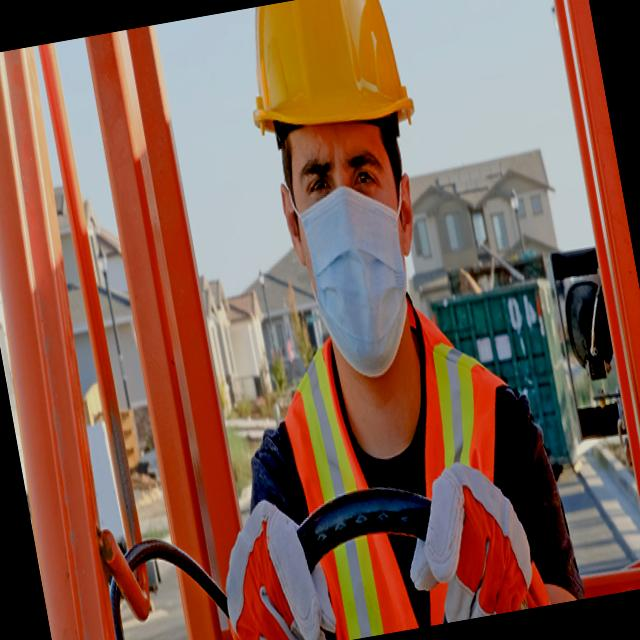helmet: (237, 0, 421, 179)
no-goggles: (274, 124, 410, 220)
vest: (251, 276, 536, 640)
